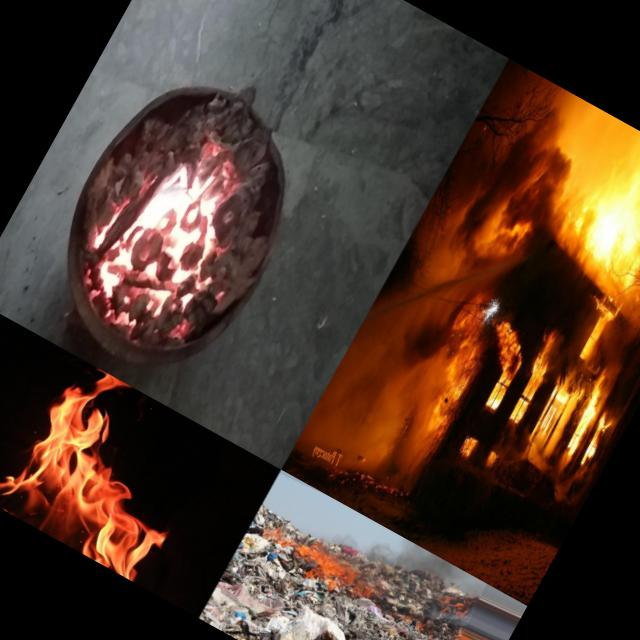fire: (56, 39, 337, 372), (0, 345, 232, 591), (284, 514, 348, 612), (418, 344, 481, 434), (562, 377, 616, 458), (525, 374, 580, 450), (576, 296, 622, 360), (518, 336, 562, 398), (574, 413, 616, 471), (438, 590, 473, 624), (401, 610, 432, 638), (457, 434, 479, 459), (444, 626, 463, 640)
smoke: (302, 241, 493, 479), (442, 120, 596, 302), (388, 536, 460, 592), (330, 519, 393, 572)
